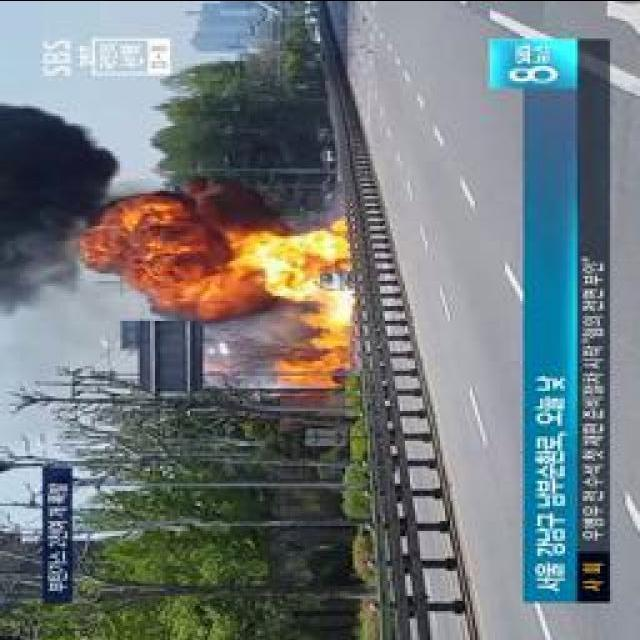Fire: (248, 226, 358, 312), (308, 317, 348, 382)
